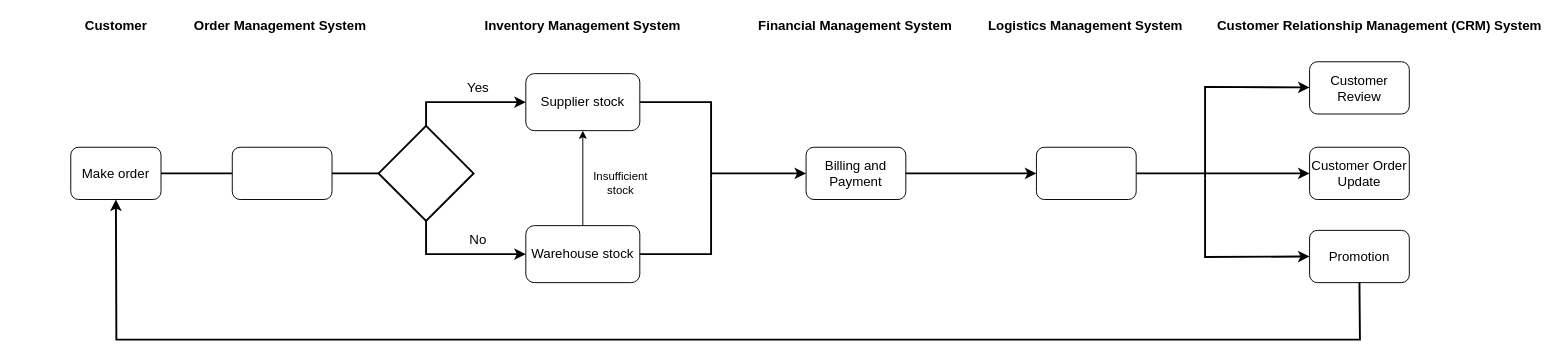
Image size: 1565x364. Some labels were removed from this diagram. The box of each missing label's shape, as (x1, y1, x2, y2) in pixels:
Delivery Status: (1036, 146, 1136, 200)
Dropship: (377, 124, 474, 221)
Process Order: (231, 146, 332, 200)
